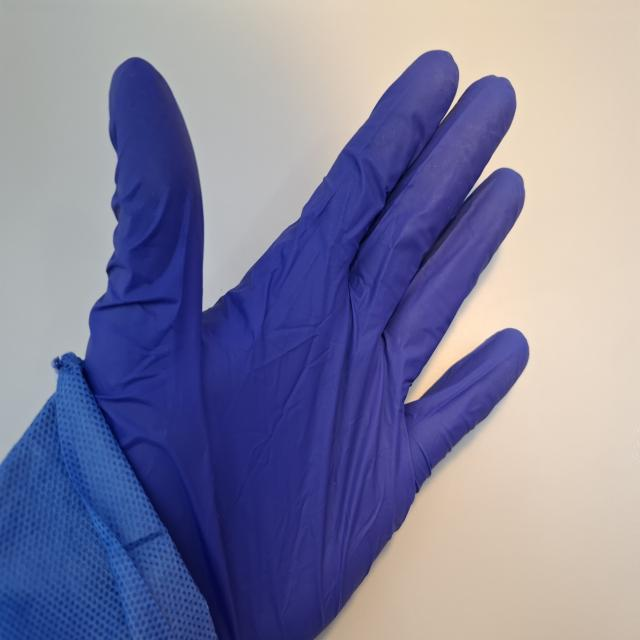glove_on: (74, 45, 532, 640)
